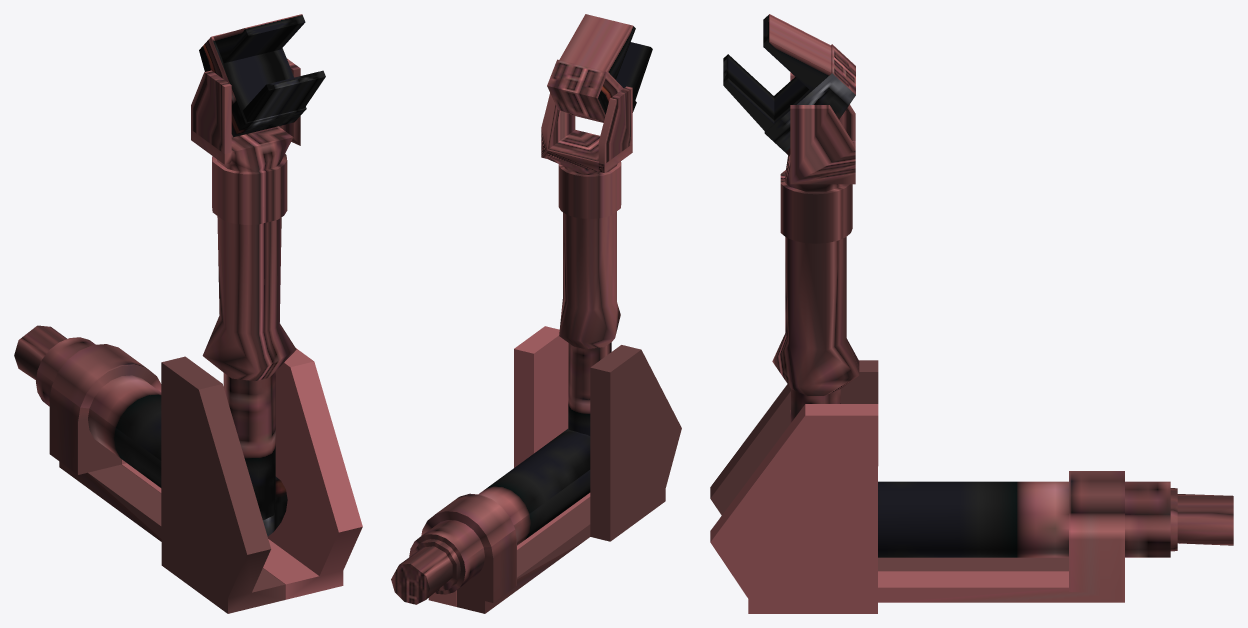
The model's file is ball_arm2.obj.
3 views of the same model, side by side, from view 1: azimuth 30°, elevation 25°; view 2: azimuth 150°, elevation 25°; view 3: azimuth 270°, elevation 25° (orthographic). The views are drawn at different scales.
Visible parts, largest first — view 1: pCylinder7; view 2: pCylinder7; view 3: pCylinder7.
Part boxes in pixels (x1,y1,x2,y2): pCylinder7: (14, 14, 362, 613); pCylinder7: (391, 14, 681, 613); pCylinder7: (710, 14, 1233, 613).
Size of the model in its own units: 0.445 by 2.1 by 1.79.
